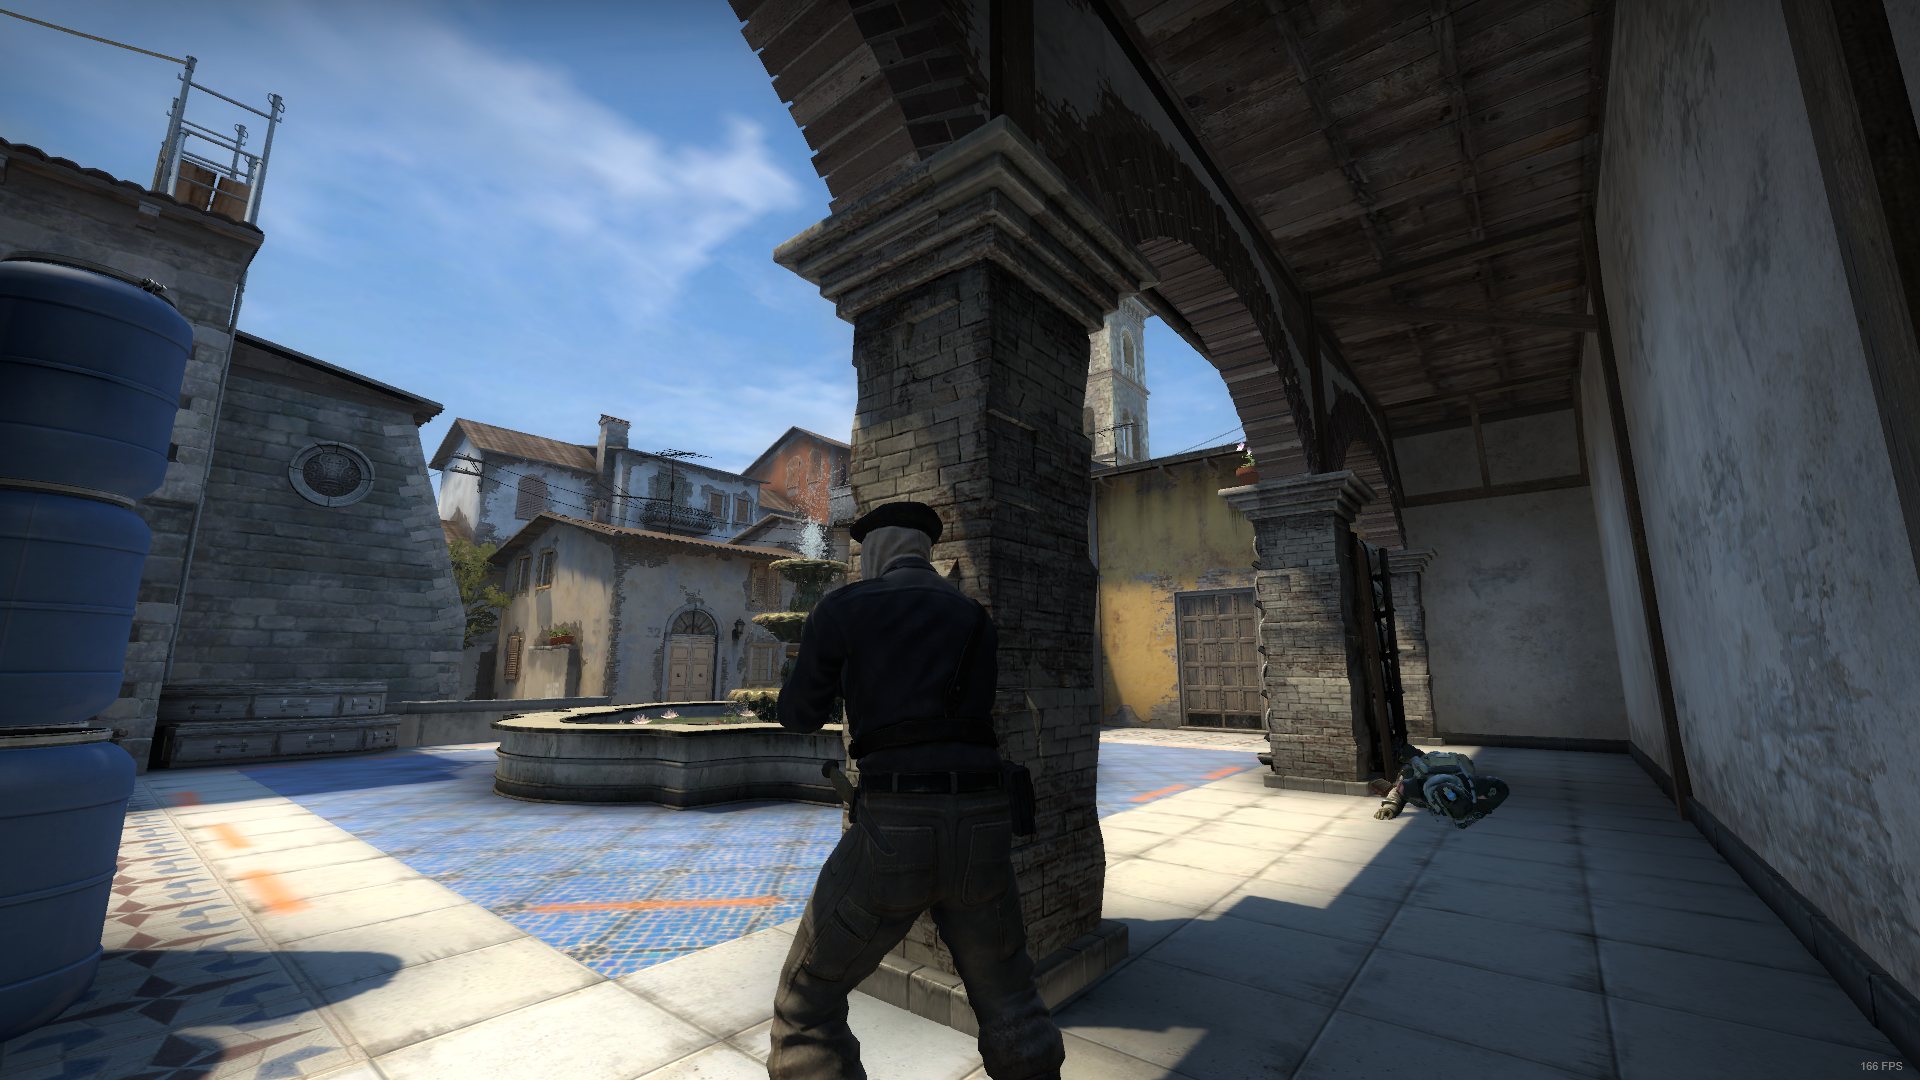t: (694, 469, 1118, 1080)
